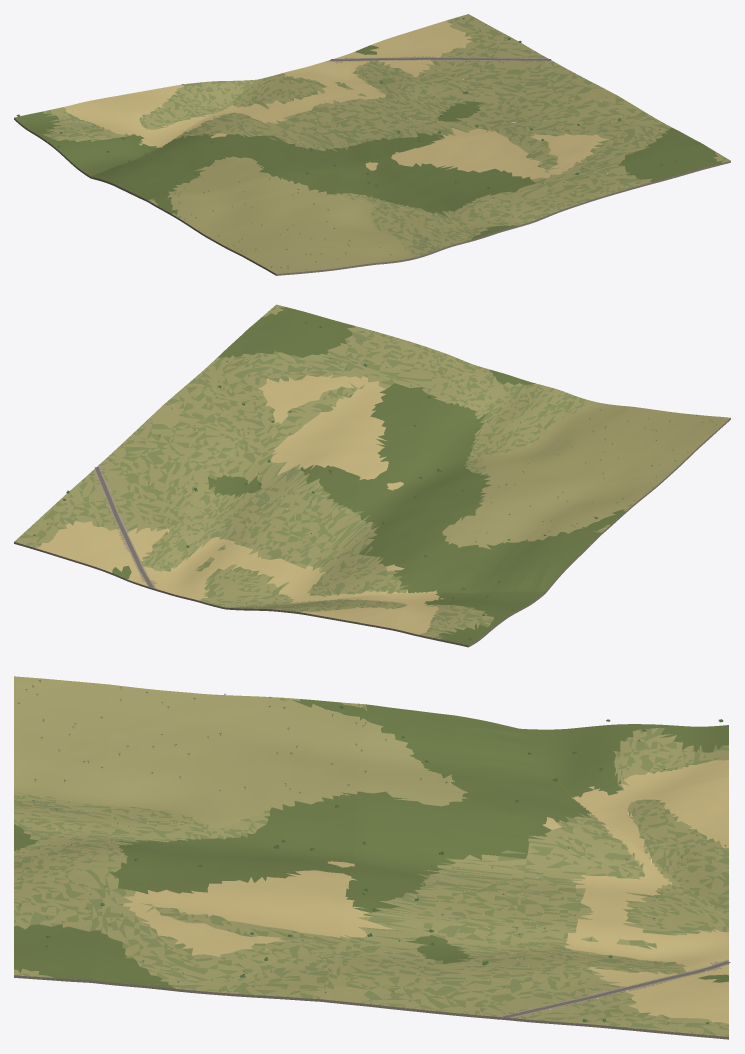
The model's file is parca_+9_+1-yakin.glb.
3 views of the same model, one above another, from view 1: azimuth 30°, elevation 25°; view 2: azimuth 150°, elevation 25°; view 3: azimuth 270°, elevation 25° (orthographic). The views are drawn at different scales.
Parts seen in each view (by area): view 1: parca_+9_+1_arazi, parca_+9_+1_bitkiler, parca_+9_+1_yollar; view 2: parca_+9_+1_arazi, parca_+9_+1_bitkiler, parca_+9_+1_yollar; view 3: parca_+9_+1_arazi, parca_+9_+1_bitkiler, parca_+9_+1_yollar.
Part boxes in pixels (x1,y1,x2,y2): parca_+9_+1_arazi: [14, 14, 730, 275]; parca_+9_+1_bitkiler: [16, 18, 678, 269]; parca_+9_+1_yollar: [330, 58, 551, 60]; parca_+9_+1_arazi: [14, 304, 730, 647]; parca_+9_+1_bitkiler: [29, 322, 717, 640]; parca_+9_+1_yollar: [94, 467, 153, 587]; parca_+9_+1_arazi: [14, 676, 728, 1039]; parca_+9_+1_bitkiler: [17, 679, 727, 1032]; parca_+9_+1_yollar: [503, 961, 730, 1017].
Bounding box in the file's own units: 1004 × 131 × 1003.
